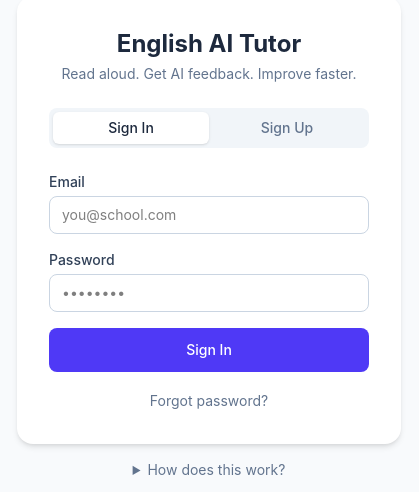
Test: LoginPage — forgot password › shows confirmation message after successful submit
The image size is (419, 492).
Click the button "Forgot password?" at (209, 401), box [49,391,369,411]
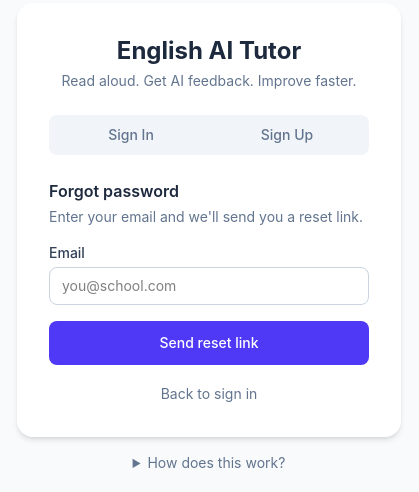
Type "student@test.com" into the field labelled "Email" at (209, 286), box [49,267,369,305]
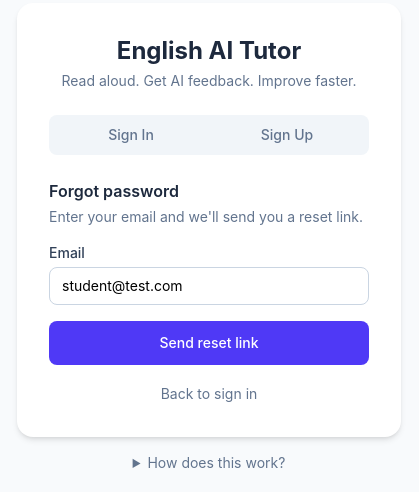
Click the button "Send reset link" at (209, 343), box [49,321,369,365]
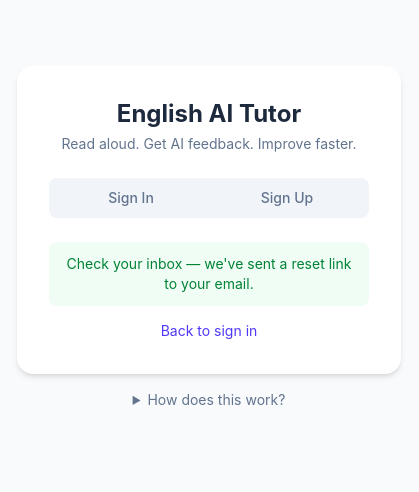
Now the text "Check your inbox — we've sent a reset link to your email." is shown, box [49,242,369,306]
